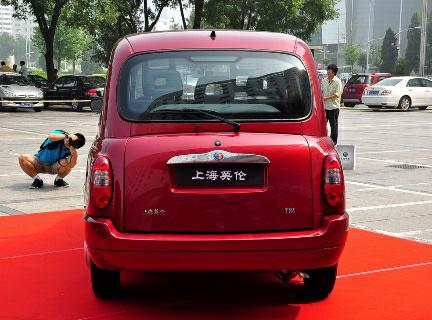吉利汽车-英伦TX4: (80, 28, 356, 304)
